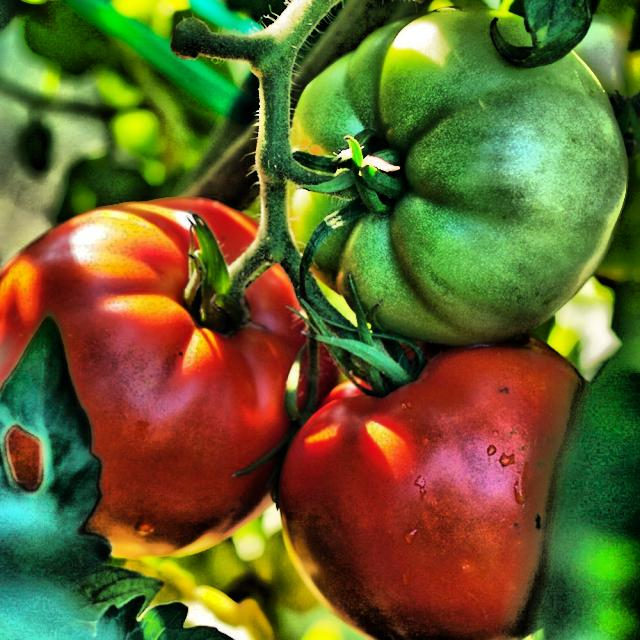tomato: (18, 9, 614, 624)
